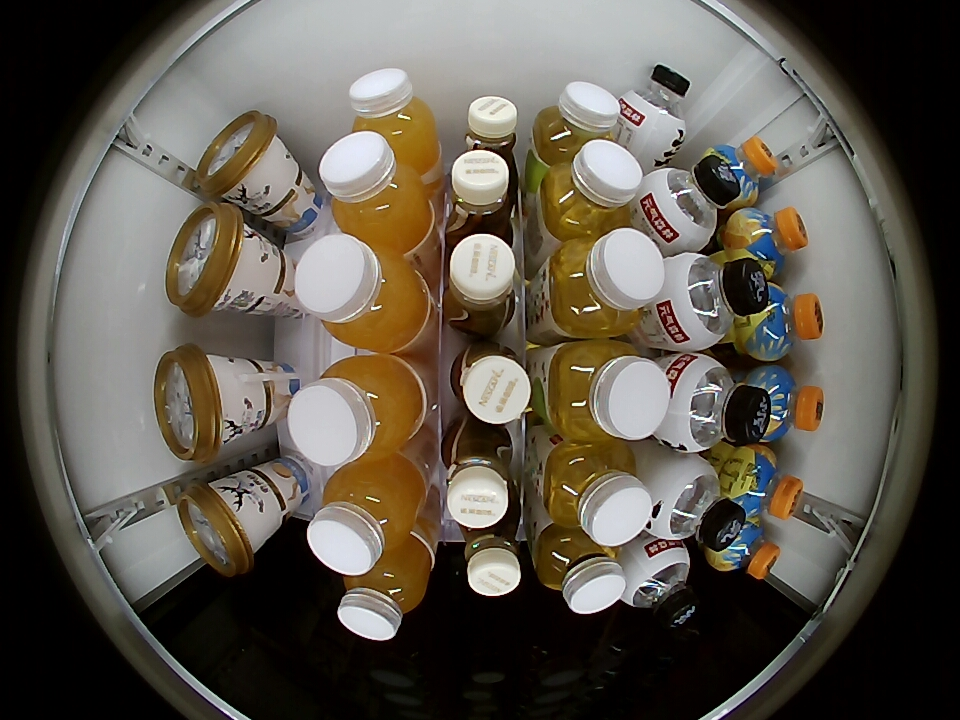chapai2: (545, 228, 664, 337), (545, 340, 669, 443), (541, 443, 652, 547), (538, 139, 642, 238), (533, 526, 626, 614), (532, 81, 619, 164)
guolicheng: (741, 285, 823, 362), (726, 445, 804, 521), (749, 364, 824, 443), (727, 206, 808, 278), (707, 137, 778, 207), (709, 515, 781, 581)
kafei: (442, 420, 517, 530), (443, 233, 519, 335), (449, 340, 531, 425), (444, 150, 517, 244), (457, 510, 523, 597), (463, 96, 519, 170)
lujiaoxiang: (165, 202, 254, 317), (154, 343, 235, 463), (194, 110, 285, 202), (177, 478, 258, 577)
weic: (295, 234, 433, 353), (287, 354, 428, 466), (307, 456, 428, 575), (319, 131, 436, 253), (337, 535, 434, 641), (349, 69, 440, 173)
yuanqishui: (661, 353, 772, 453), (658, 253, 770, 350), (644, 454, 746, 552), (641, 153, 741, 251), (620, 540, 700, 630), (617, 63, 692, 154)
